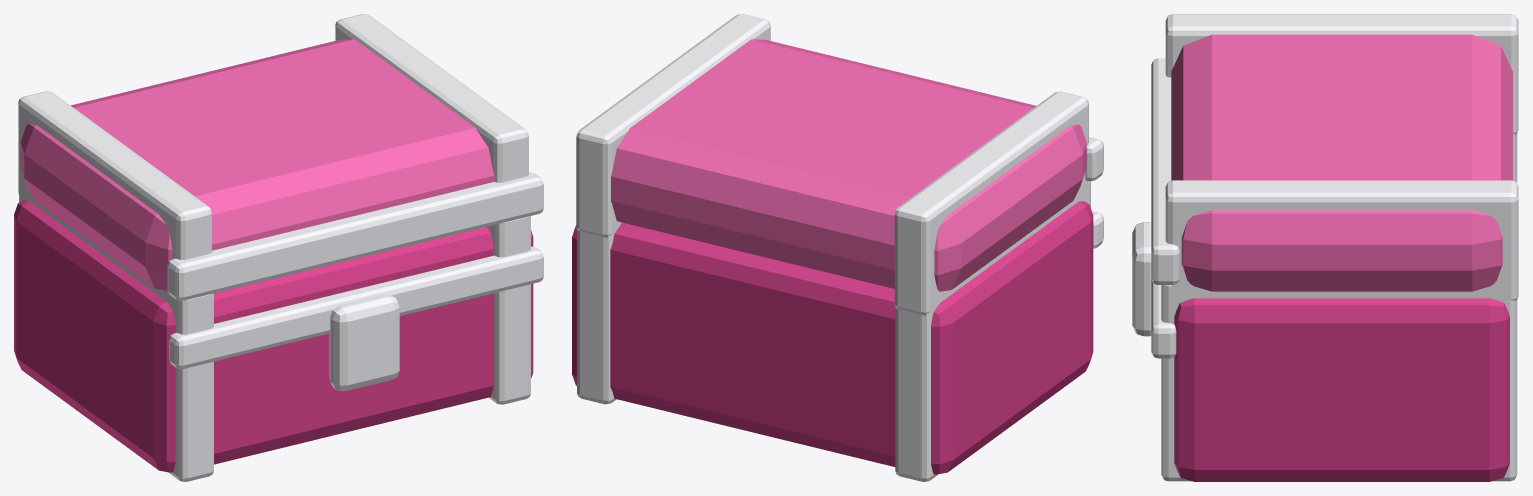
Rendered from bau.glb.
3 renders of one model, left to right at view 1: azimuth 30°, elevation 25°; view 2: azimuth 150°, elevation 25°; view 3: azimuth 270°, elevation 25°, orthographic. The views are drawn at different scales.
Parts seen in each view (by area): view 1: Malha_Tampa_Bau, Malha_Base_Bau; view 2: Malha_Tampa_Bau, Malha_Base_Bau; view 3: Malha_Tampa_Bau, Malha_Base_Bau.
Boxes of the visible parts, <box> form: Malha_Tampa_Bau: <box>18,14,543,304</box>; Malha_Base_Bau: <box>14,183,543,481</box>; Malha_Tampa_Bau: <box>576,14,1103,315</box>; Malha_Base_Bau: <box>572,181,1103,481</box>; Malha_Tampa_Bau: <box>1151,14,1518,301</box>; Malha_Base_Bau: <box>1132,133,1517,481</box>.
Bounding box in the file's own units: 1.62 × 1.1 × 1.34.
